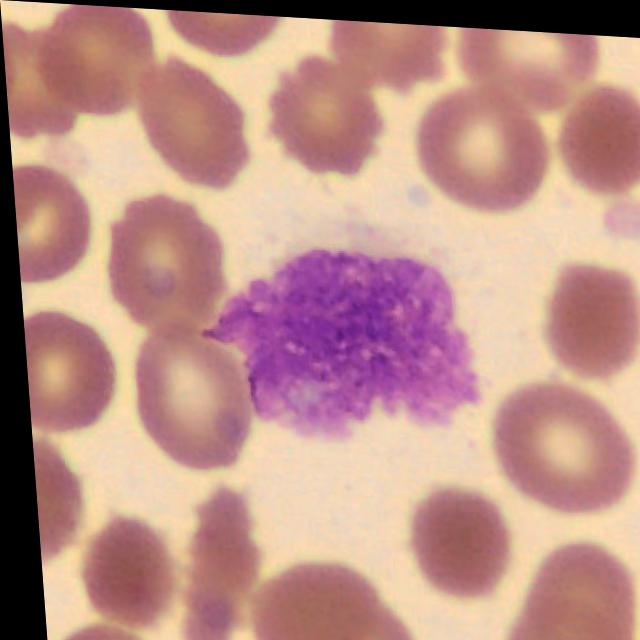Restos celulares: (203, 244, 474, 435)
